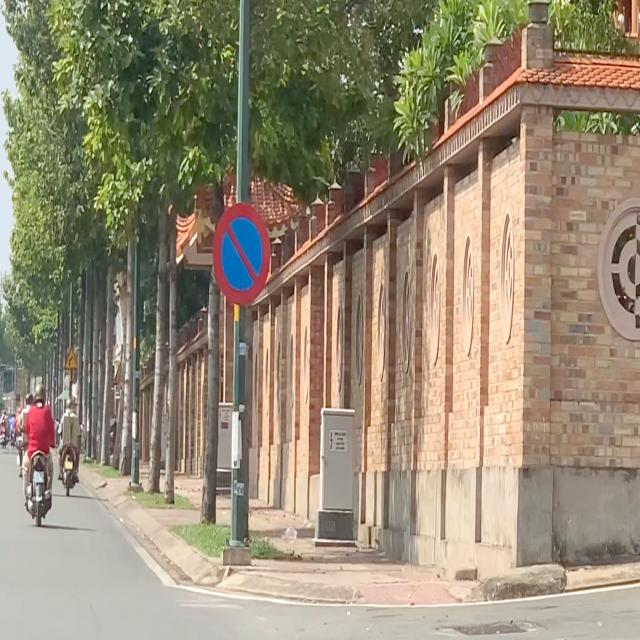Cam do: (212, 202, 272, 306)
Nguy hiem: (64, 345, 79, 370)
